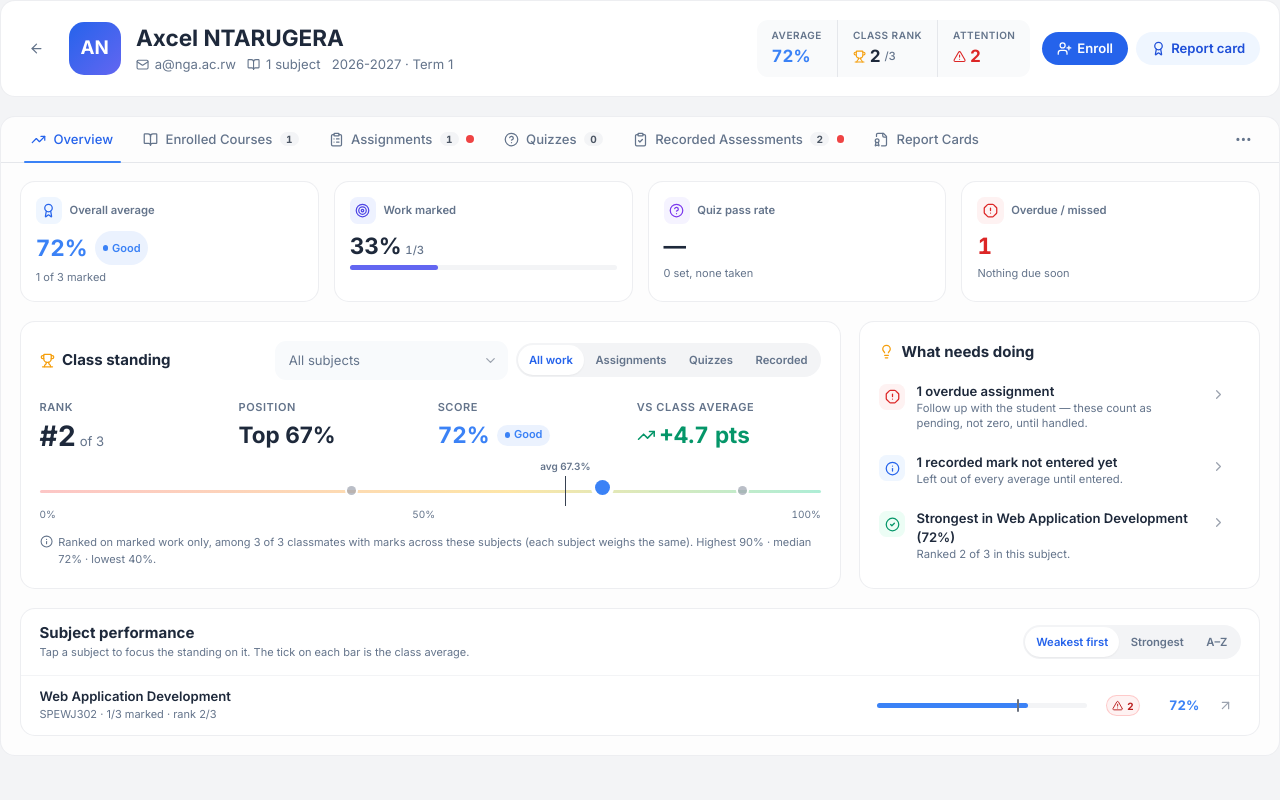
Test: StudentDetails › lists every recorded mark on its own tab, pending ones included
The width and height of the screenshot is (1280, 800).
Click the tab "Recorded Assessments 2" at (738, 139), box [618,116,859,162]
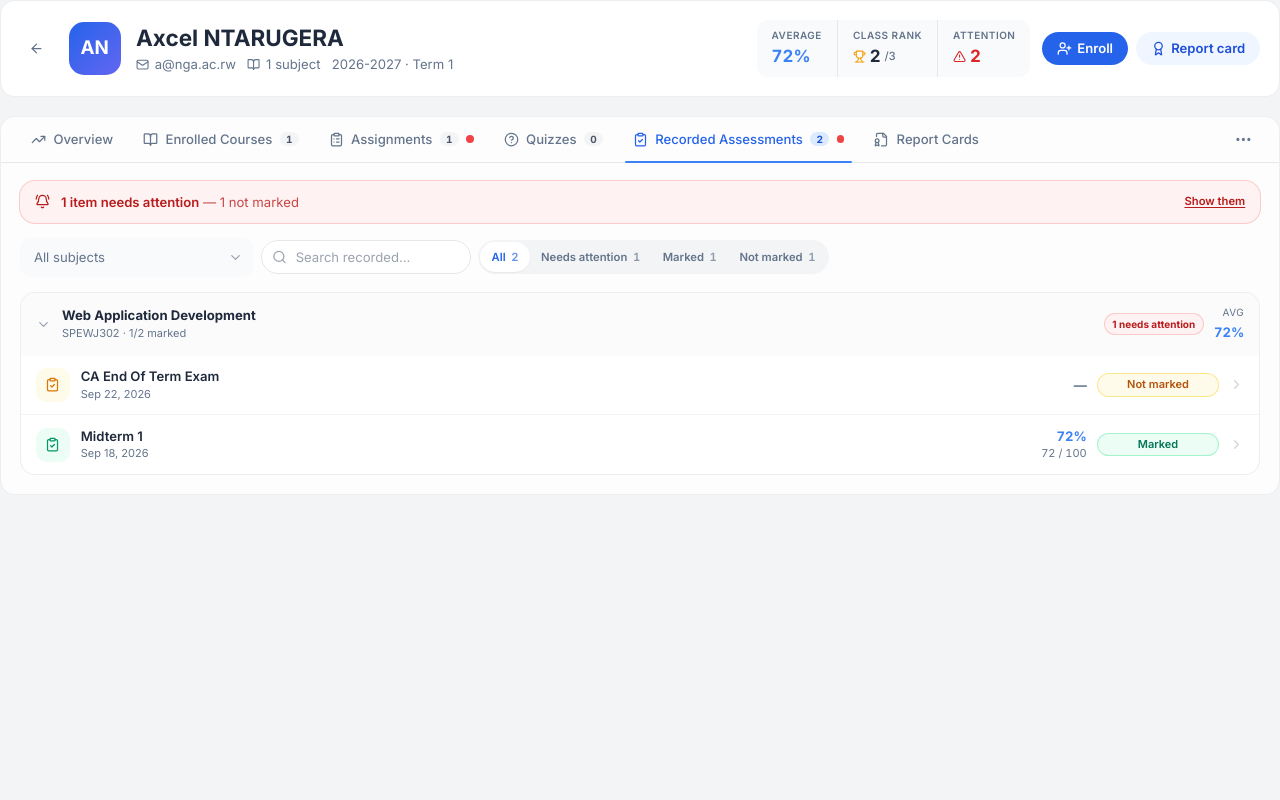
Expected: the text "Midterm 1" is shown, [81,428,143,444]
Expected: the text "CA End Of Term Exam" is shown, [81,368,219,384]
Expected: the radio button "Not marked" is shown, [728,242,827,272]
